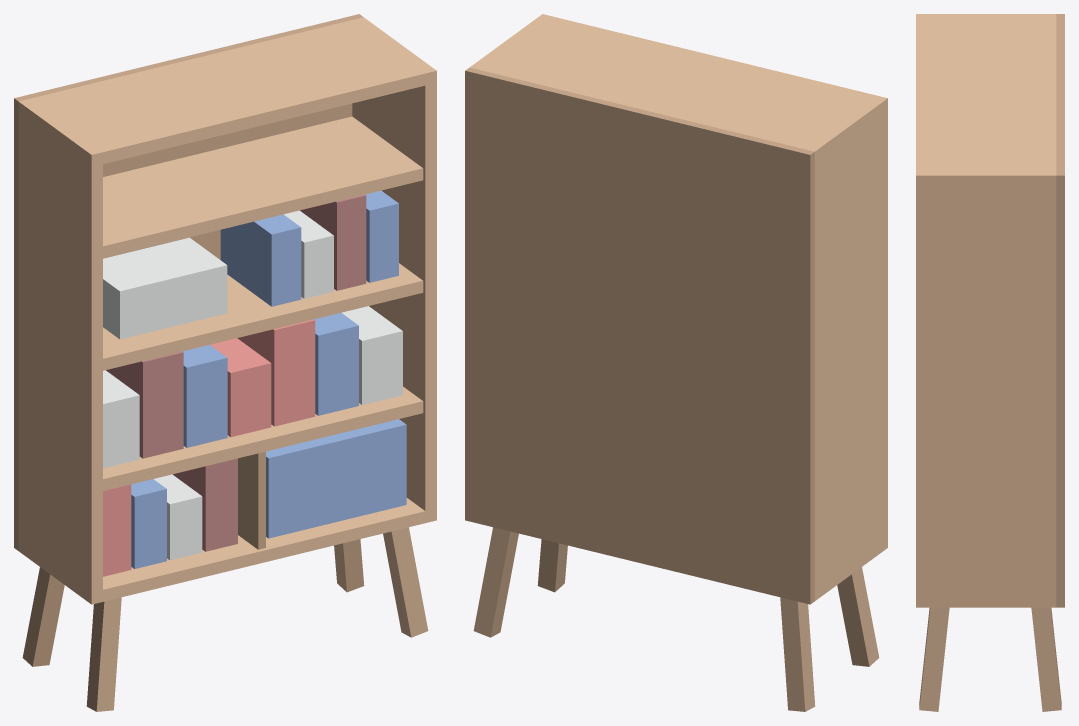
Rendered from bookcaseMidCentury.glb.
3 renders of one model, left to right at view 1: azimuth 30°, elevation 25°; view 2: azimuth 150°, elevation 25°; view 3: azimuth 270°, elevation 25°, orthographic. The views are drawn at different scales.
Visible parts, largest first — view 1: bookcaseMidCentury; view 2: bookcaseMidCentury; view 3: bookcaseMidCentury.
Boxes of the visible parts, x1,y1,x2,y2 form: bookcaseMidCentury: (14,14,436,711); bookcaseMidCentury: (465,14,887,711); bookcaseMidCentury: (916,14,1064,711).
Bounding box in the file's own units: 0.45 × 0.7027 × 0.175.
